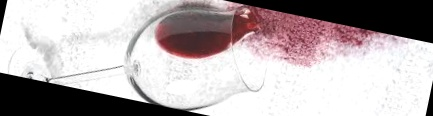wine: (233, 4, 401, 87)
